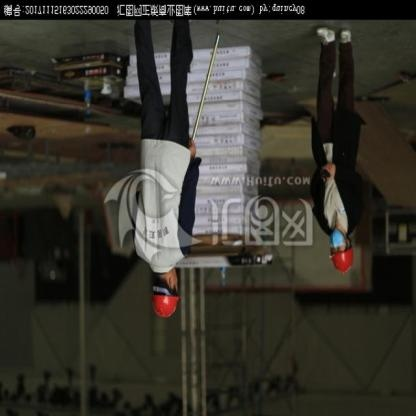red: (144, 288, 186, 327), (323, 240, 357, 276)
